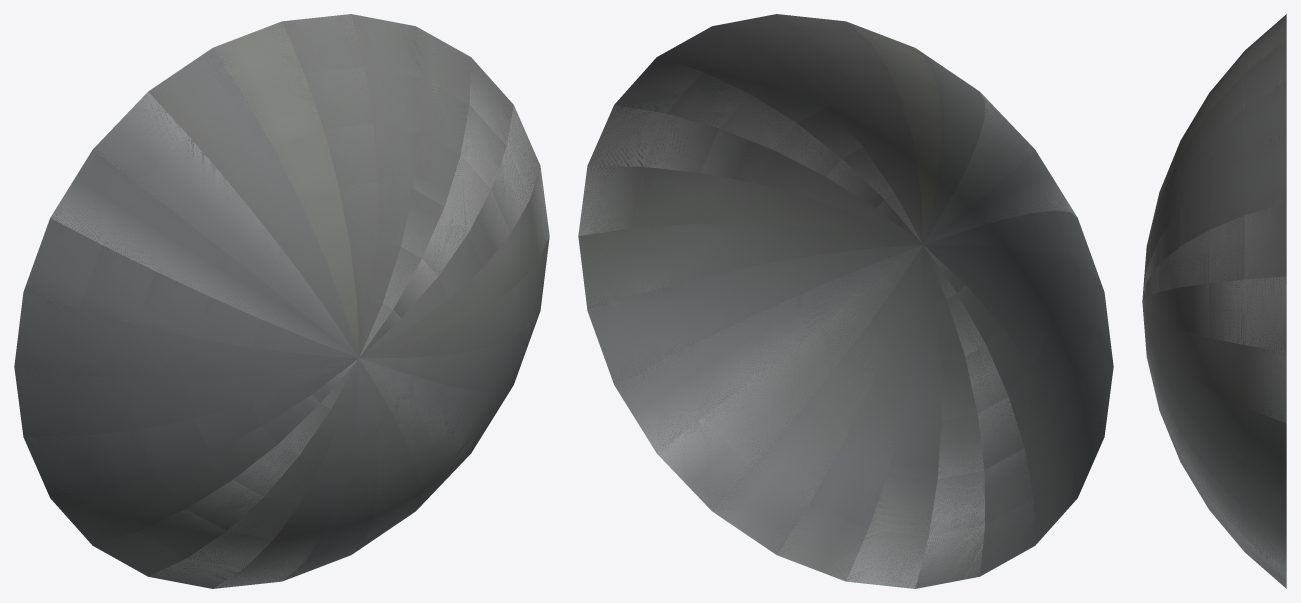
The model's file is original-44.obj.
The picture shows the model from 3 angles, left to right: view 1: azimuth 30°, elevation 25°; view 2: azimuth 150°, elevation 25°; view 3: azimuth 270°, elevation 25°; orthographic projection. The views are drawn at different scales.
Visible parts, largest first — view 1: Wooden_Plug7/Wooden_Plug12/mesh6/mesh6-geometry#mesh6-geometry; view 2: Wooden_Plug7/Wooden_Plug12/mesh6/mesh6-geometry#mesh6-geometry; view 3: Wooden_Plug7/Wooden_Plug12/mesh6/mesh6-geometry#mesh6-geometry.
Boxes of the visible parts, box(x1,y1,x2,y2) form: Wooden_Plug7/Wooden_Plug12/mesh6/mesh6-geometry#mesh6-geometry: box(14, 14, 549, 588); Wooden_Plug7/Wooden_Plug12/mesh6/mesh6-geometry#mesh6-geometry: box(578, 14, 1113, 588); Wooden_Plug7/Wooden_Plug12/mesh6/mesh6-geometry#mesh6-geometry: box(1142, 14, 1286, 588).
Bounding box in the file's own units: 0.0221 × 0.0221 × 0.00552.
